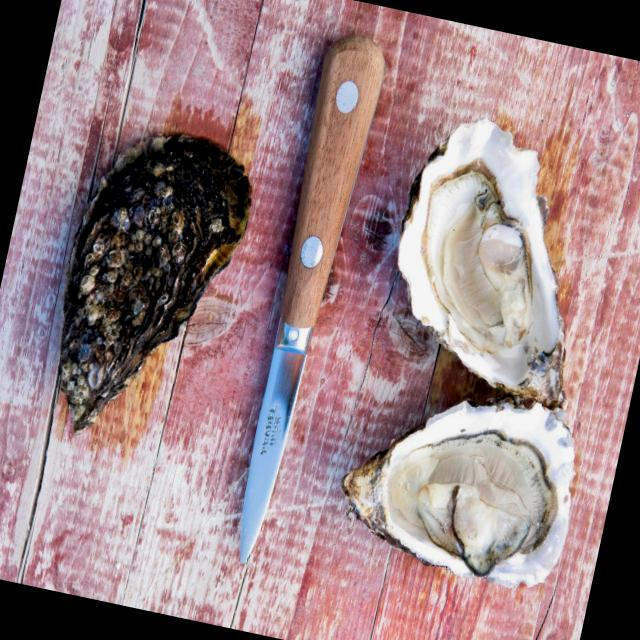Oyster-Closed: (58, 131, 254, 433)
Oyster-Open: (398, 119, 570, 413), (342, 401, 576, 589)
